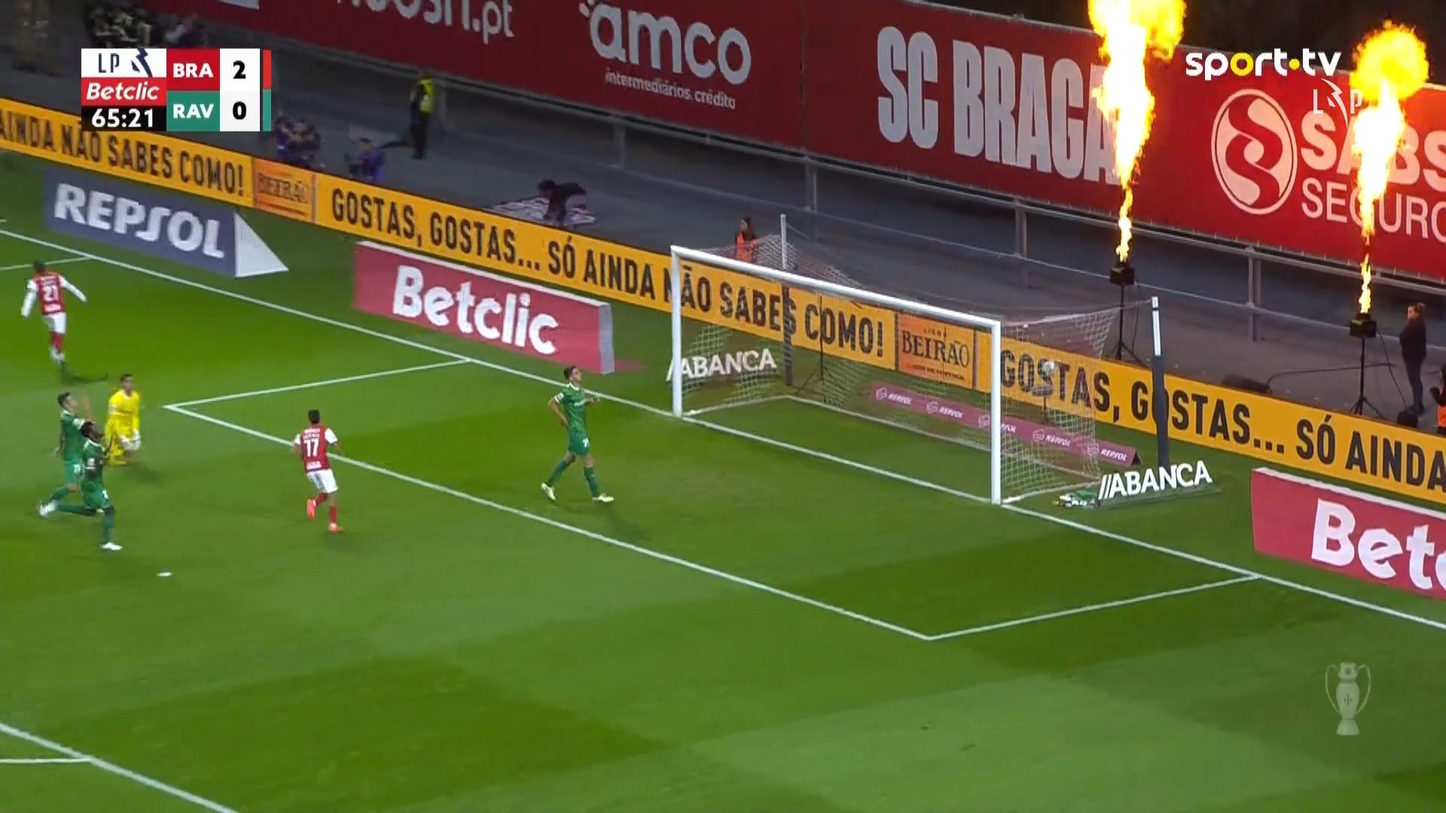ball: (1042, 360, 1056, 373)
goalkeeper: (101, 373, 142, 466)
player: (40, 422, 124, 553), (539, 364, 615, 504), (20, 257, 87, 366), (36, 391, 91, 518), (289, 408, 344, 532)
